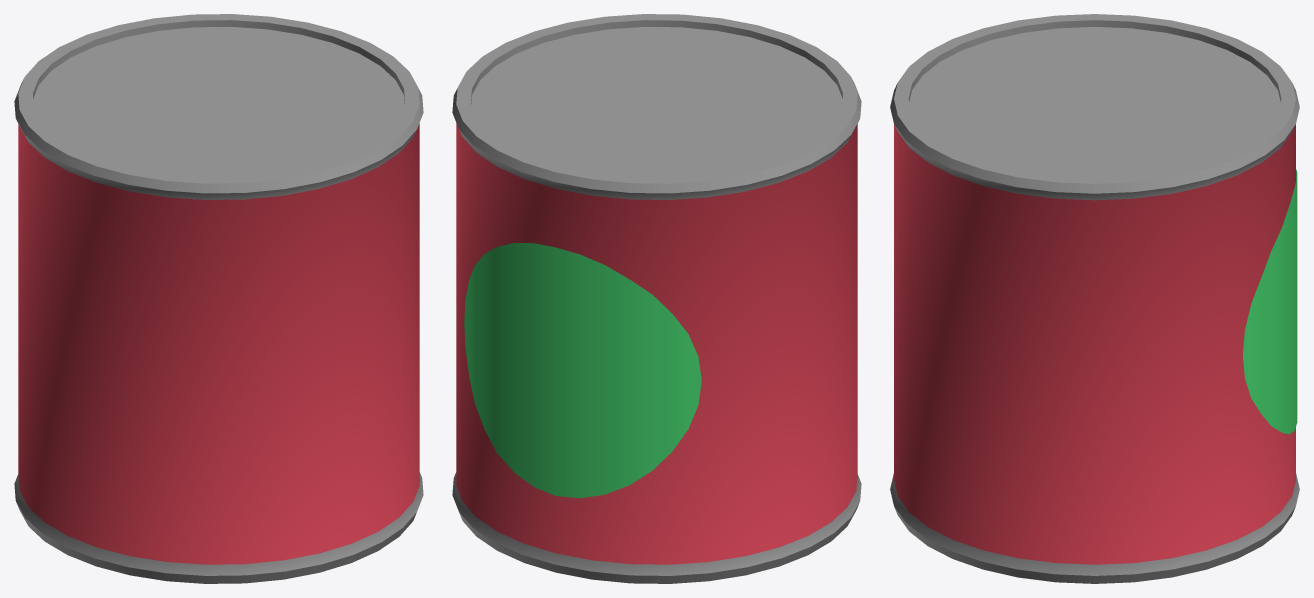
The model's file is CanSingle.fbx.
3 views of the same model, side by side, from view 1: azimuth 30°, elevation 25°; view 2: azimuth 150°, elevation 25°; view 3: azimuth 270°, elevation 25° (orthographic).
Parts seen in each view (by area): view 1: CanMesh; view 2: CanMesh; view 3: CanMesh.
Boxes of the visible parts, left/top/right/bottom form: CanMesh: left=14, top=14, right=423, bottom=583; CanMesh: left=452, top=14, right=861, bottom=583; CanMesh: left=890, top=14, right=1299, bottom=583.
Size of the model in its own units: 0.4489 by 0.4835 by 0.4489.
